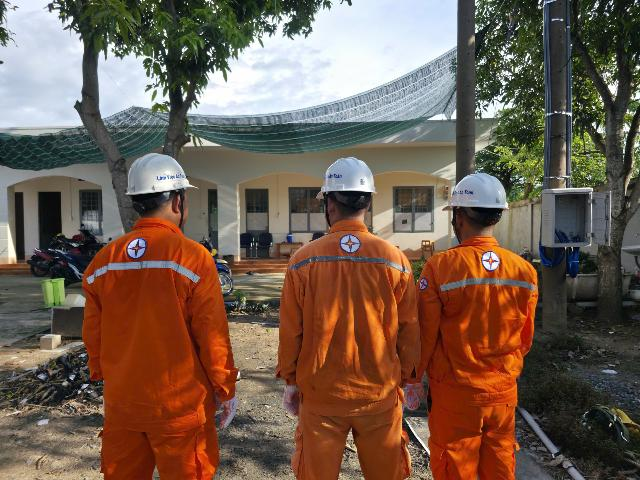gloves: (260, 354, 316, 429), (204, 377, 239, 443), (389, 356, 423, 420)
helmet: (112, 142, 200, 207), (439, 163, 514, 223), (310, 148, 390, 204)
